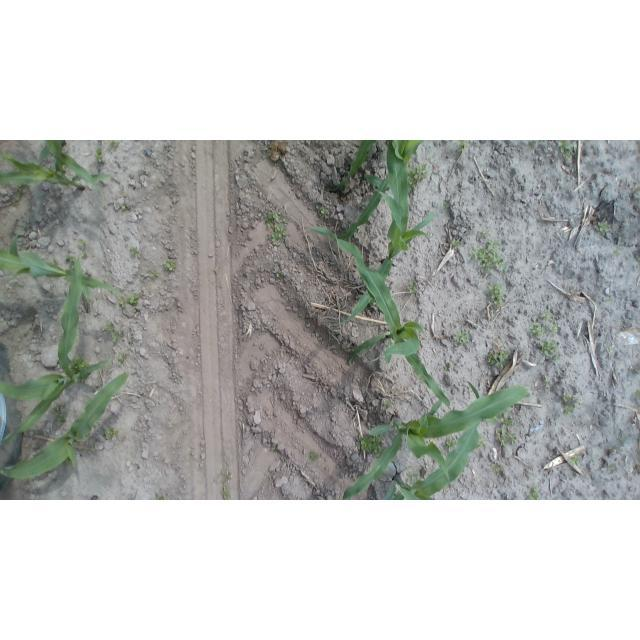Maize: (310, 228, 454, 412), (338, 389, 537, 498), (0, 259, 112, 449), (335, 140, 436, 326), (0, 372, 132, 482), (379, 381, 480, 500), (333, 140, 423, 246), (0, 232, 122, 297), (0, 141, 114, 195), (44, 140, 105, 200)
Weeds: (471, 239, 506, 276), (264, 210, 290, 244), (358, 434, 384, 458), (407, 165, 430, 190), (539, 339, 559, 363), (486, 349, 510, 369), (487, 283, 506, 308), (561, 393, 579, 417), (50, 403, 68, 426), (118, 294, 141, 310), (496, 432, 518, 448), (559, 141, 575, 163), (501, 412, 515, 437), (453, 329, 470, 346), (529, 323, 546, 339), (69, 356, 87, 371), (595, 220, 611, 236), (103, 426, 121, 440), (406, 469, 422, 484), (488, 463, 504, 478), (526, 485, 542, 500), (93, 147, 105, 165), (163, 259, 178, 273), (486, 411, 501, 425), (219, 485, 233, 499), (64, 255, 78, 268), (221, 470, 234, 483), (129, 244, 141, 258), (541, 310, 555, 322), (444, 438, 456, 451), (308, 450, 321, 462), (407, 281, 418, 295), (117, 351, 127, 366), (106, 321, 118, 333), (317, 204, 328, 217), (568, 455, 581, 466), (458, 140, 468, 153), (476, 436, 486, 449), (121, 203, 134, 213), (450, 239, 461, 250), (383, 399, 394, 410), (479, 229, 491, 239), (112, 331, 121, 344), (147, 270, 160, 279), (550, 322, 559, 334), (108, 141, 120, 150), (154, 493, 169, 500), (603, 345, 613, 355), (77, 239, 88, 248), (273, 269, 284, 278), (444, 362, 452, 374), (529, 140, 540, 148), (442, 202, 451, 211), (612, 249, 621, 258), (605, 297, 614, 305), (526, 469, 533, 479), (543, 378, 550, 388), (633, 389, 639, 400), (618, 434, 626, 442), (610, 446, 618, 454), (80, 253, 88, 260), (270, 445, 278, 452), (636, 184, 640, 195), (569, 363, 572, 366), (639, 258, 640, 261)
